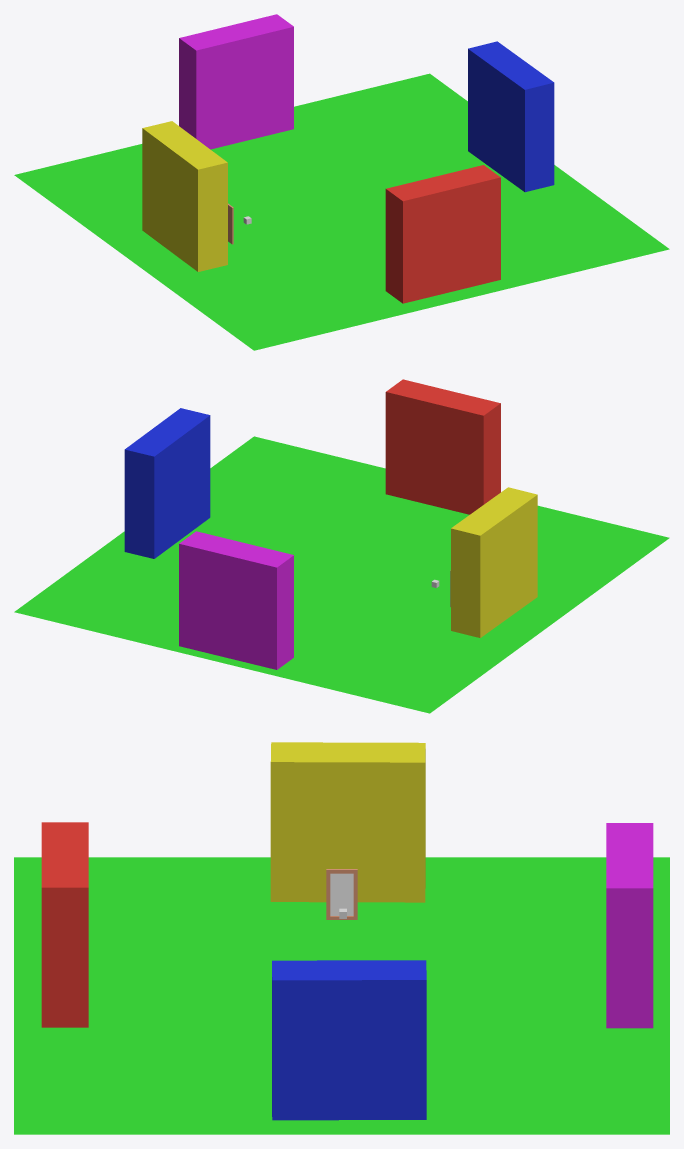
3 views of the same model, one above another, from view 1: azimuth 30°, elevation 25°; view 2: azimuth 150°, elevation 25°; view 3: azimuth 270°, elevation 25° (orthographic). The views are drawn at different scales.
Visible parts, largest first — view 1: Plane, Cube, Cube.003, Cube.002, Cube.001; view 2: Plane, Cube.003, Cube, Cube.001, Cube.002; view 3: Plane, Cube.002, Cube.001, Cube, Cube.003, Cube.005, Cube.004.
Boxes of the visible parts, <box> form: Plane: <box>14,73,669,350</box>; Cube: <box>385,165,500,303</box>; Cube.003: <box>179,14,293,149</box>; Cube.002: <box>468,41,554,192</box>; Cube.001: <box>142,121,227,271</box>; Plane: <box>14,436,669,713</box>; Cube.003: <box>179,531,293,669</box>; Cube: <box>385,379,500,514</box>; Cube.001: <box>451,487,537,637</box>; Cube.002: <box>124,408,210,558</box>; Plane: <box>14,857,669,1134</box>; Cube.002: <box>272,960,426,1120</box>; Cube.001: <box>270,742,425,902</box>; Cube: <box>41,822,88,1027</box>; Cube.003: <box>606,823,653,1028</box>; Cube.005: <box>330,873,353,915</box>; Cube.004: <box>326,869,357,919</box>.
Size of the model in its own units: 167 by 39.52 by 167.
